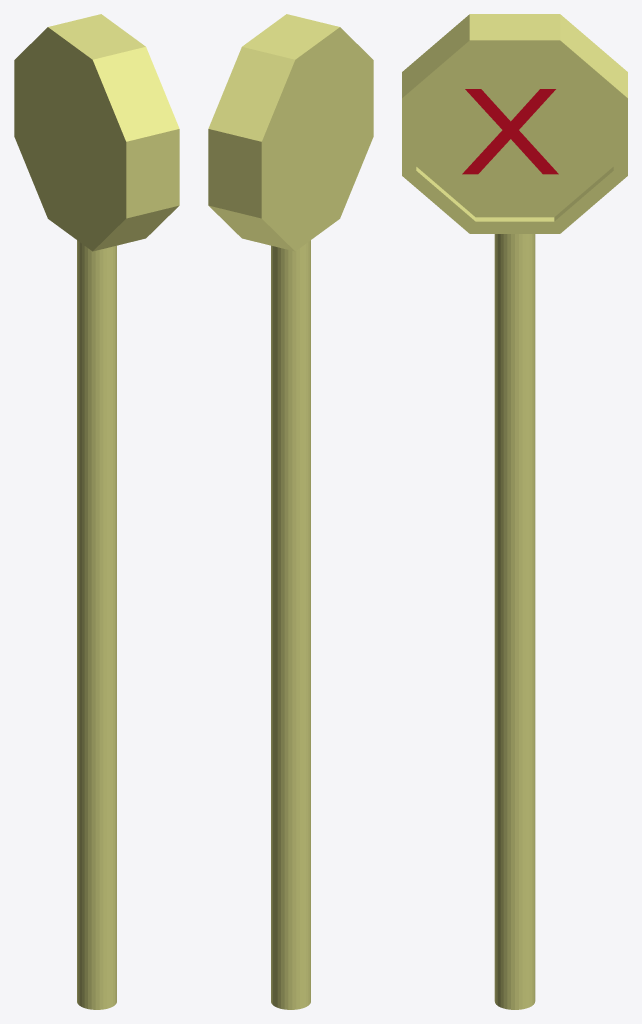
File: X_CPTObject.fbx
The picture shows the model from 3 angles, left to right: view 1: azimuth 30°, elevation 25°; view 2: azimuth 150°, elevation 25°; view 3: azimuth 270°, elevation 25°; orthographic projection.
Visible parts, largest first — view 1: X_sign; view 2: X_sign; view 3: X_sign.
Part boxes in pixels (<box>): X_sign: <box>14,14,179,1009</box>; X_sign: <box>208,14,373,1009</box>; X_sign: <box>402,14,627,1009</box>.
Bounding box in the file's own units: 55.16 × 952 × 200.
